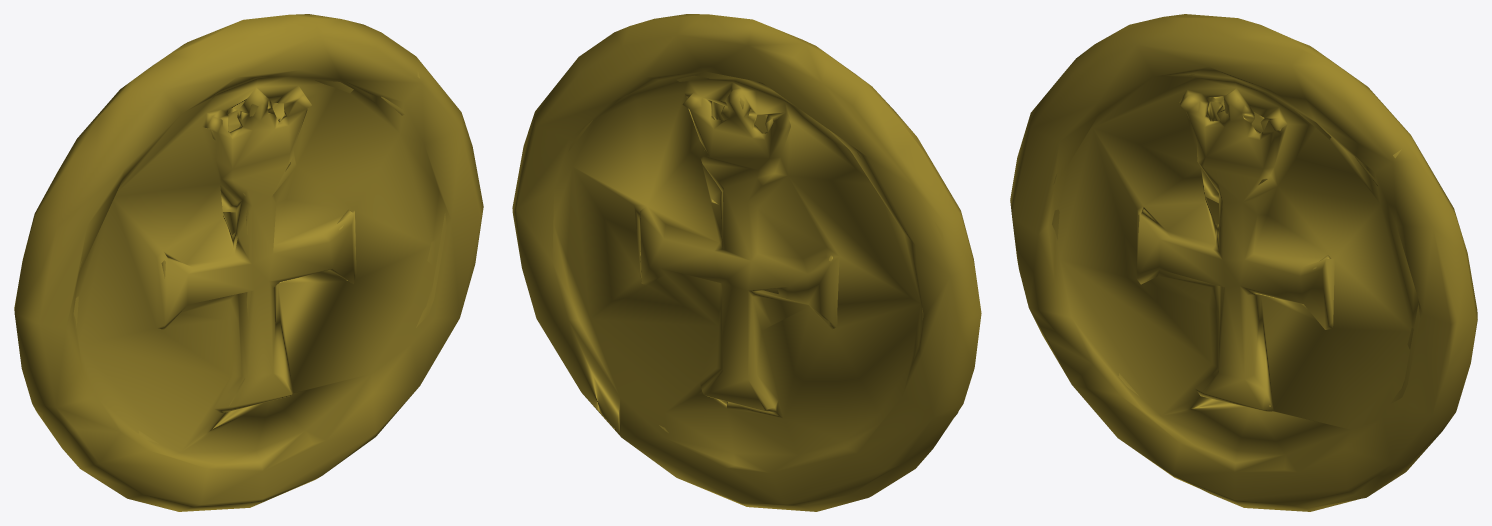
The model's file is gen3d-gold-doubloon-lod1.glb.
3 renders of one model, left to right at view 1: azimuth 30°, elevation 25°; view 2: azimuth 150°, elevation 25°; view 3: azimuth 330°, elevation 25°, orthographic.
Parts seen in each view (by area): view 1: part_0; view 2: part_0; view 3: part_0.
Part boxes in pixels (box(x1,y1,x2,y2)): part_0: box(14, 14, 483, 511); part_0: box(512, 14, 981, 511); part_0: box(1010, 14, 1477, 511).
Size of the model in its own units: 0.9999 by 0.9993 by 0.1049.
